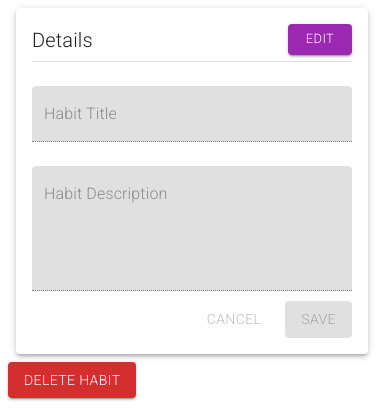
Test case: Habit detail page › Should undo changes and prevent editing when cancel button is clicked
Click the button "Edit": (320, 39) x1=288 y1=24 x2=352 y2=55
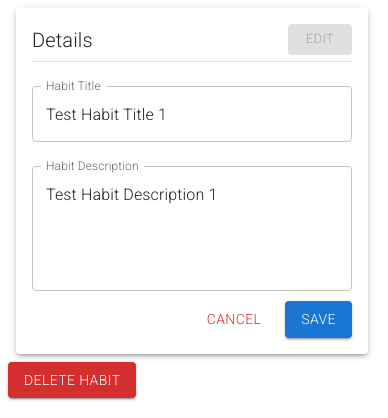
Result: the button "Save" is enabled at x1=285 y1=301 x2=352 y2=338
Replace the text in the field showing "test habit title 1" with "123": (192, 114) x1=32 y1=86 x2=352 y2=142
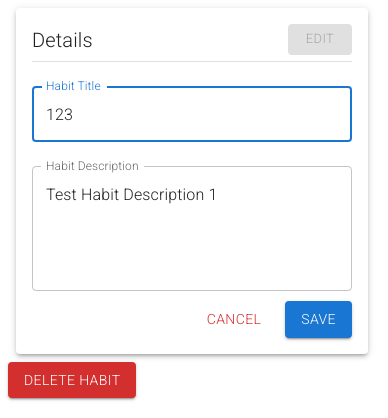
Click the button "Cancel": (234, 319) x1=199 y1=301 x2=269 y2=338
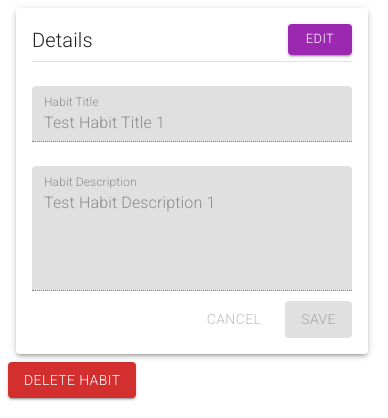
Result: the field showing "test habit title 1" is shown at x1=32 y1=86 x2=352 y2=142
